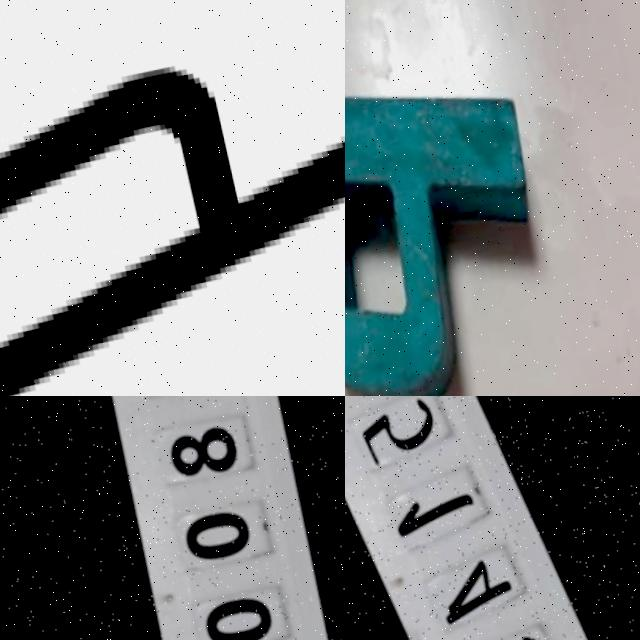0: (142, 477, 278, 595), (166, 566, 295, 640)
1: (367, 463, 483, 555)
3: (119, 396, 243, 420)
4: (408, 546, 519, 636)
5: (345, 396, 450, 477)
8: (131, 396, 263, 511)
P: (345, 60, 572, 396)
Q: (0, 23, 345, 396)
